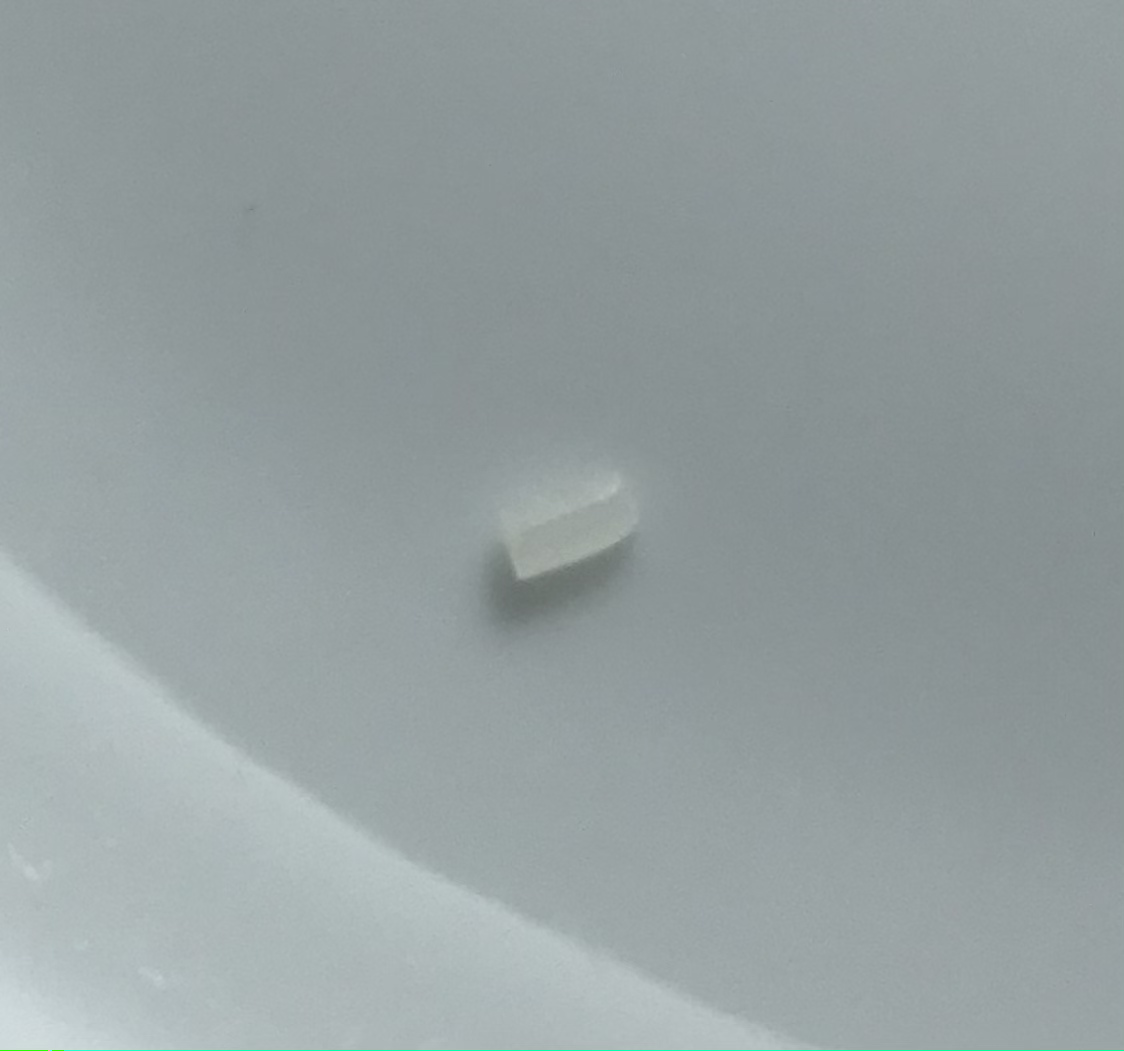Gao Tam: (489, 471, 649, 582)
